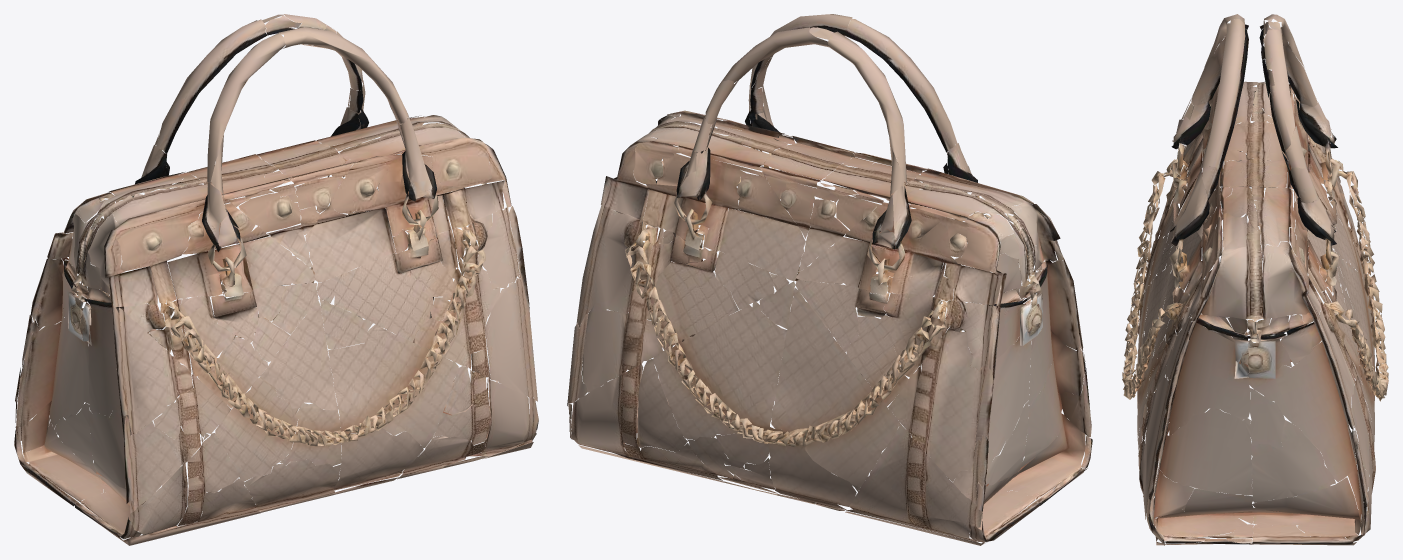
The model's file is bolso.glb.
3 renders of one model, left to right at view 1: azimuth 30°, elevation 25°; view 2: azimuth 150°, elevation 25°; view 3: azimuth 270°, elevation 25°, orthographic. The views are drawn at different scales.
Parts seen in each view (by area): view 1: tripo_node_e6c19aac-7f2f-4c37-a3cb-c62bb2c32273; view 2: tripo_node_e6c19aac-7f2f-4c37-a3cb-c62bb2c32273; view 3: tripo_node_e6c19aac-7f2f-4c37-a3cb-c62bb2c32273.
Part boxes in pixels (<box>): tripo_node_e6c19aac-7f2f-4c37-a3cb-c62bb2c32273: <box>14,14,538,545</box>; tripo_node_e6c19aac-7f2f-4c37-a3cb-c62bb2c32273: <box>567,14,1092,545</box>; tripo_node_e6c19aac-7f2f-4c37-a3cb-c62bb2c32273: <box>1122,14,1388,545</box>.
Bounding box in the file's own units: 1 × 0.9988 × 0.5674.
Materials: 1 (1 with a texture image).
